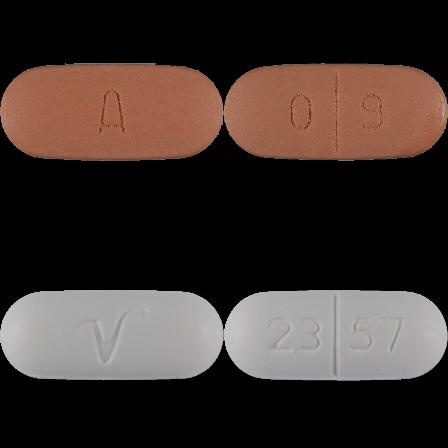52959-902: (0, 0, 224, 224)
